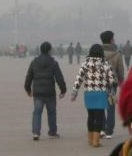person: (71, 42, 117, 149), (23, 41, 66, 140), (98, 30, 124, 140), (121, 39, 132, 71), (66, 42, 76, 65), (74, 42, 84, 64), (57, 43, 64, 59), (14, 44, 21, 59), (9, 44, 14, 58), (23, 45, 28, 59), (34, 45, 39, 56)
